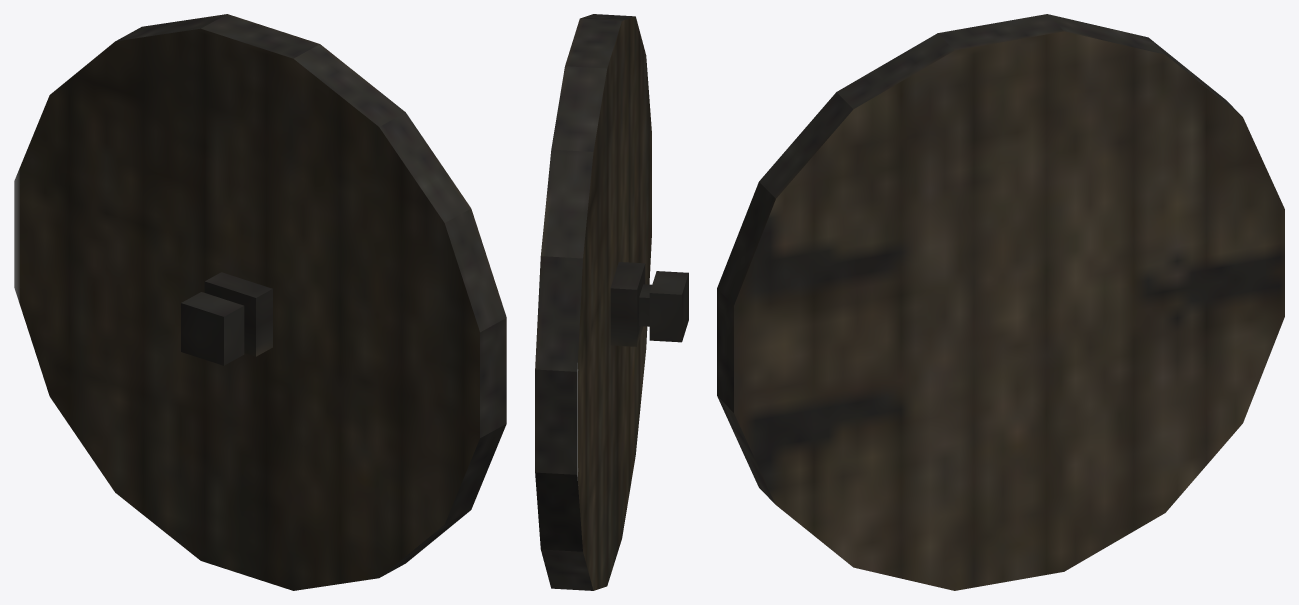
The model's file is hobbit_door_3x3_wood_open.obj.
3 renders of one model, left to right at view 1: azimuth 30°, elevation 25°; view 2: azimuth 150°, elevation 25°; view 3: azimuth 270°, elevation 25°, orthographic. The views are drawn at different scales.
Parts seen in each view (by area): view 1: cylinder, cube; view 2: cylinder, cube; view 3: cylinder.
Boxes of the visible parts, x1,y1,x2,y2 form: cylinder: (14, 14, 506, 590); cube: (181, 272, 272, 365); cylinder: (535, 14, 651, 590); cube: (610, 262, 688, 346); cylinder: (717, 14, 1284, 590).
Bounding box in the file's own units: 1.16 × 2.57 × 2.44.
